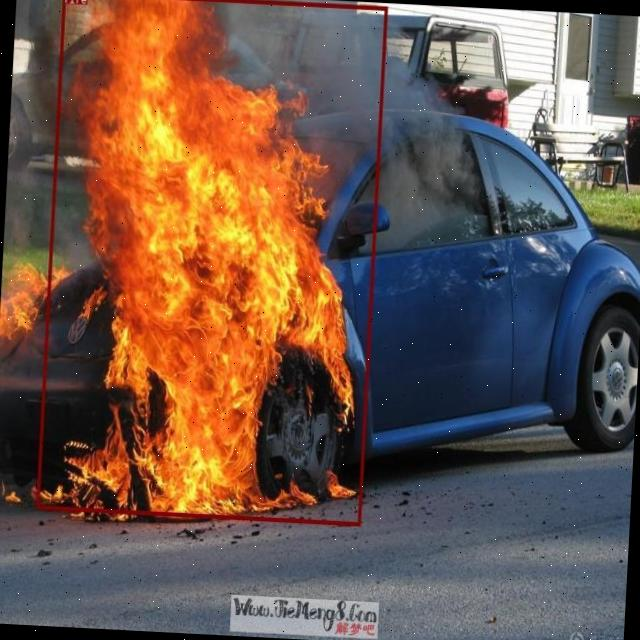fire: (35, 0, 387, 525)
